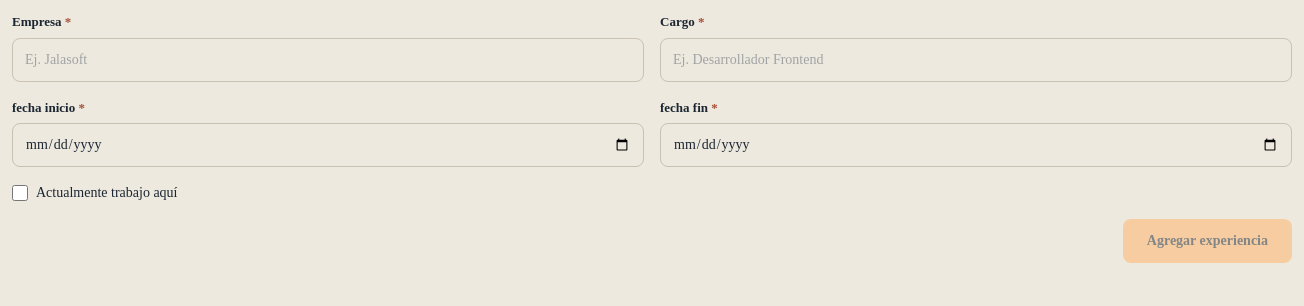
Test: FormularioExperiencia · rango de fechas (BUG-HU2-003) › quita el error al corregir la fecha fin
Type "Jalasoft" into the field with placeholder "Ej. Jalasoft".
click(328, 60); type("Jalasoft")  # box [12,38,644,82]
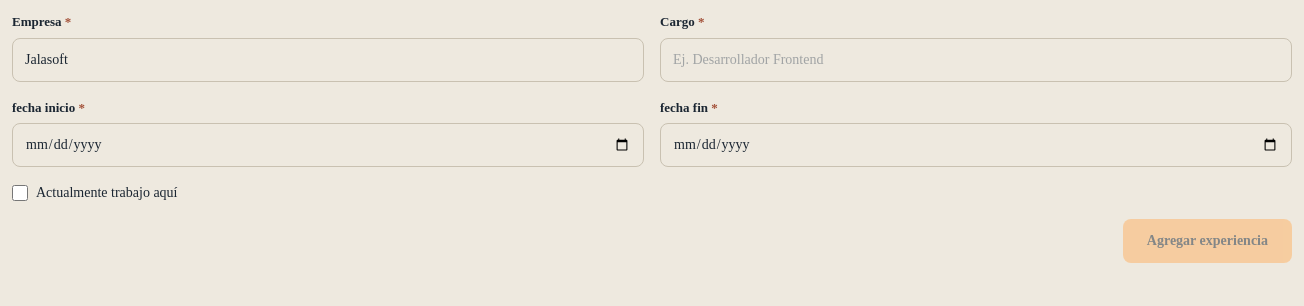
Type "Dev" into the field with placeholder "Ej. Desarrollador Frontend".
click(976, 60); type("Dev")  # box [660,38,1292,82]
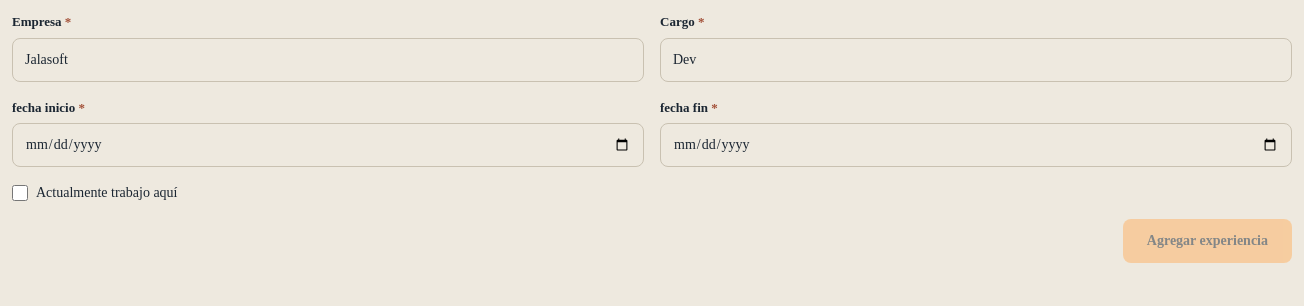
Type "2023-08-01" into the date field labelled "fecha inicio *".
click(328, 145); type("2023-08-01")  # box [12,123,644,167]
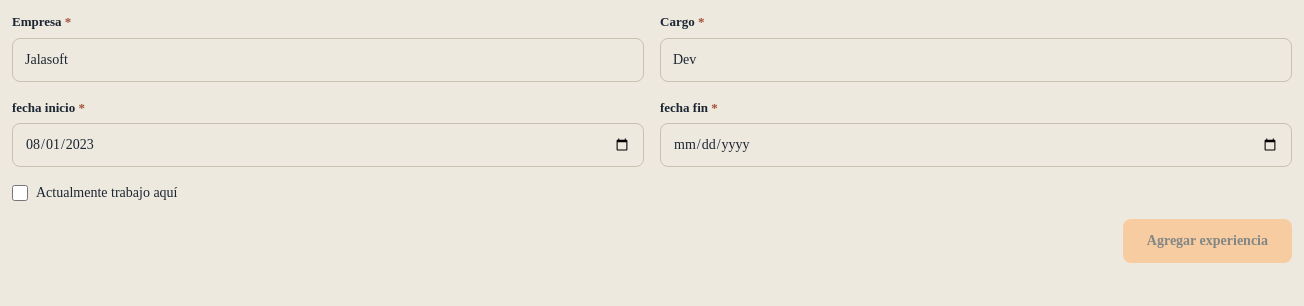
Type "2022-03-01" into the date field labelled "fecha fin *".
click(976, 145); type("2022-03-01")  # box [660,123,1292,167]
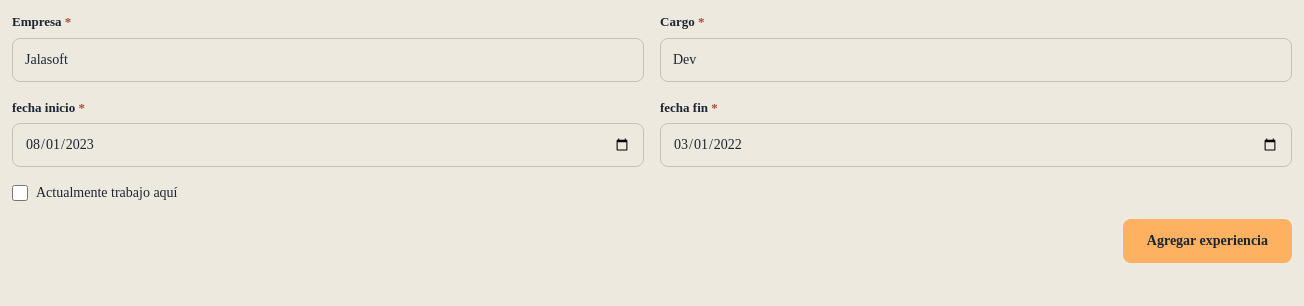
Click the button "Agregar experiencia".
click(1207, 241)  # box [1123,219,1292,263]
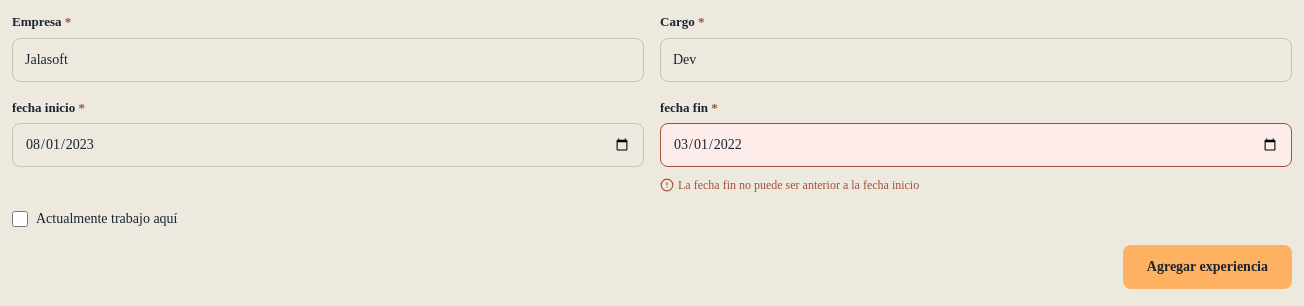
Type "2024-01-31" into the 2nd date field.
click(976, 145); type("2024-01-31")  # box [660,123,1292,167]
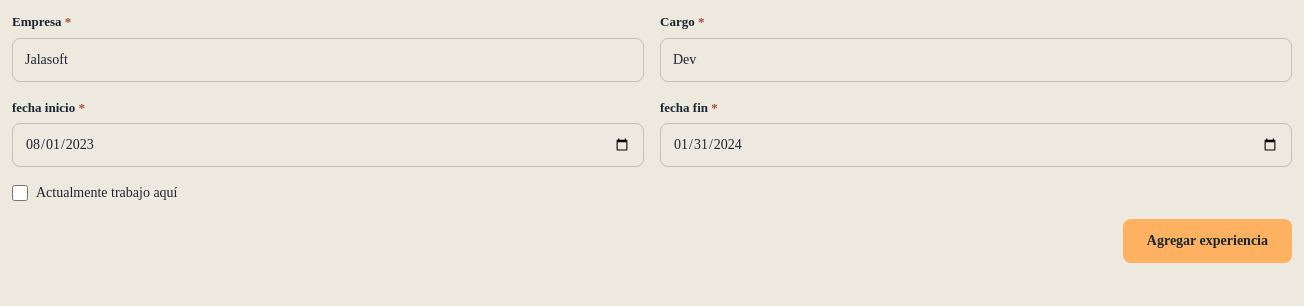
Expected: the text "La fecha fin no puede ser anterior a la fecha inicio" is gone
